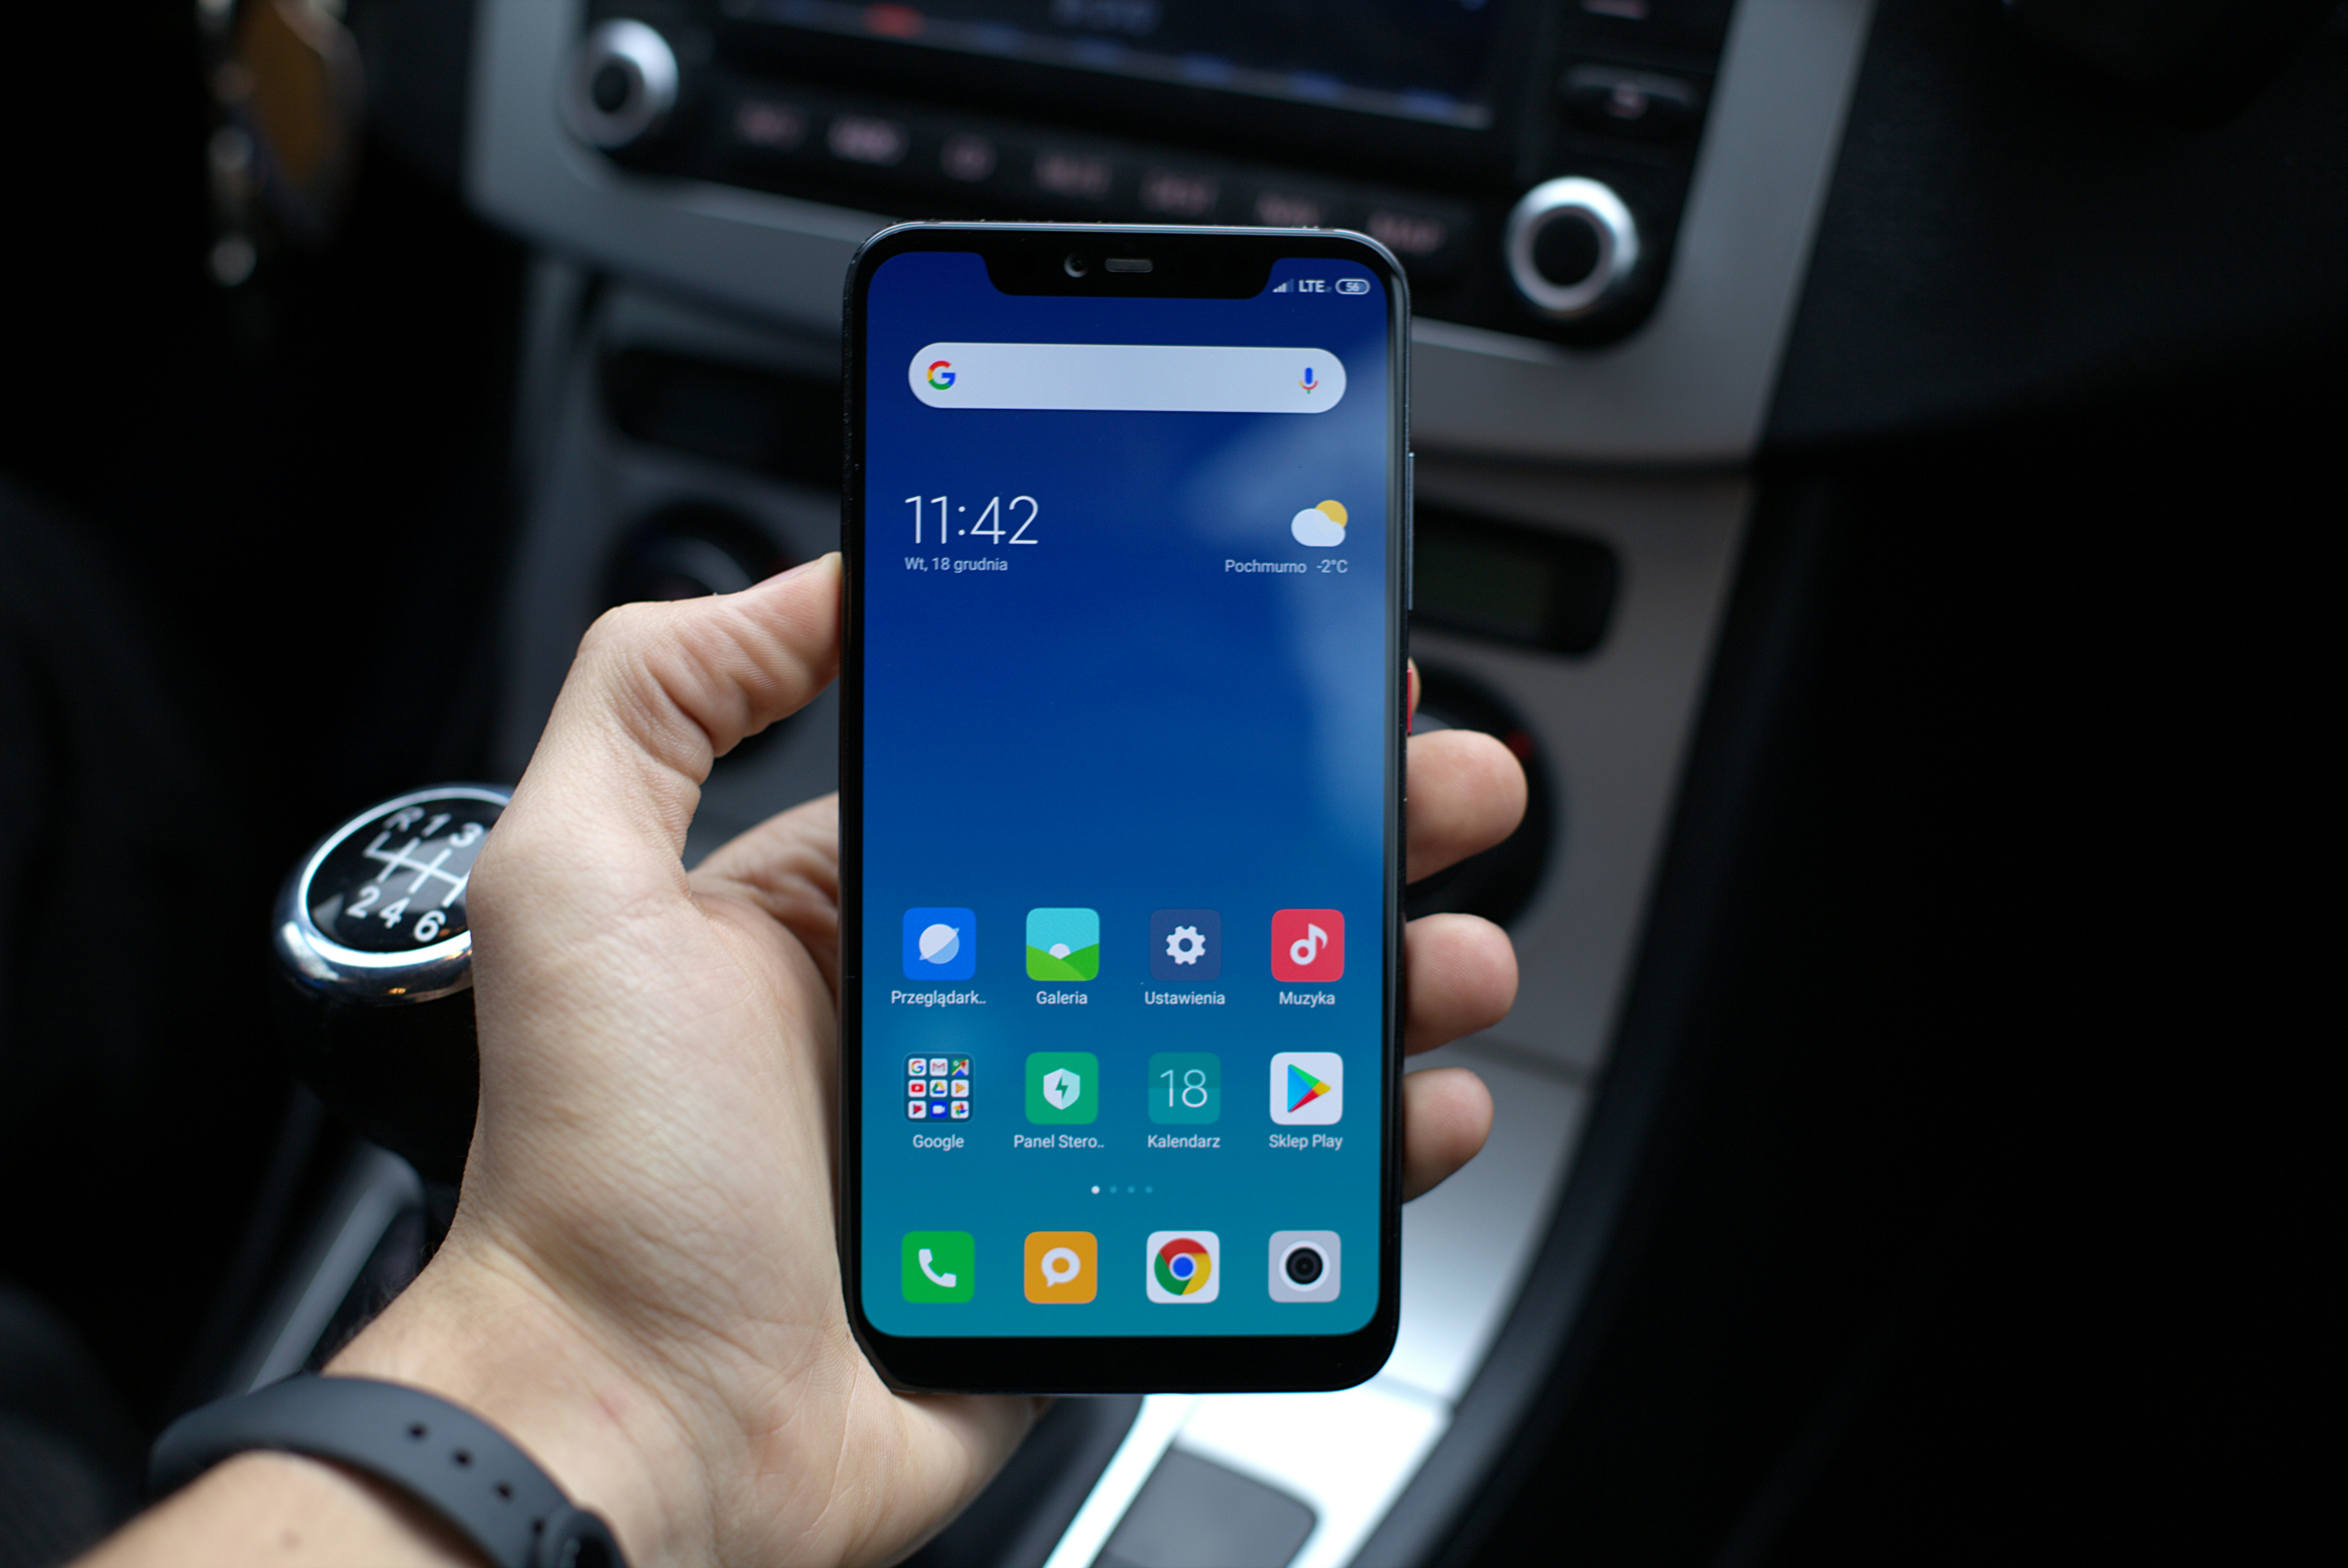p6: (821, 205, 1410, 1412)
